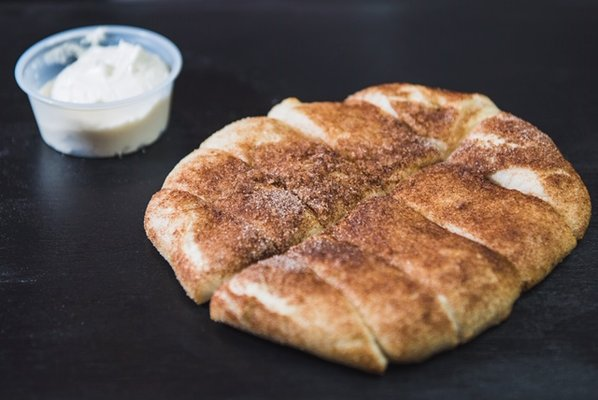sushi: (14, 24, 183, 158)
